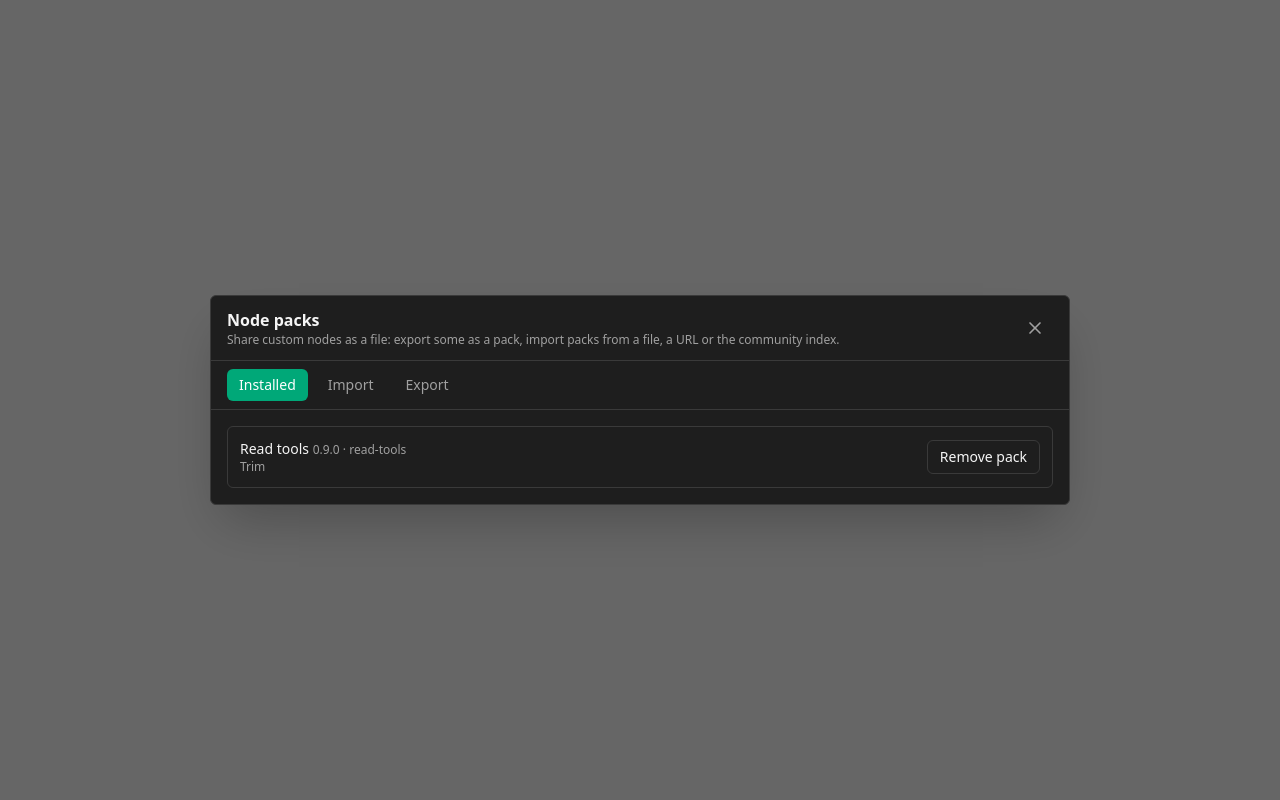
Test: NodePacksModal › installed › keeps the pack when the confirmation is cancelled
Click the button with aria-label "Remove Read tools": (983, 457) [927,440,1040,474]
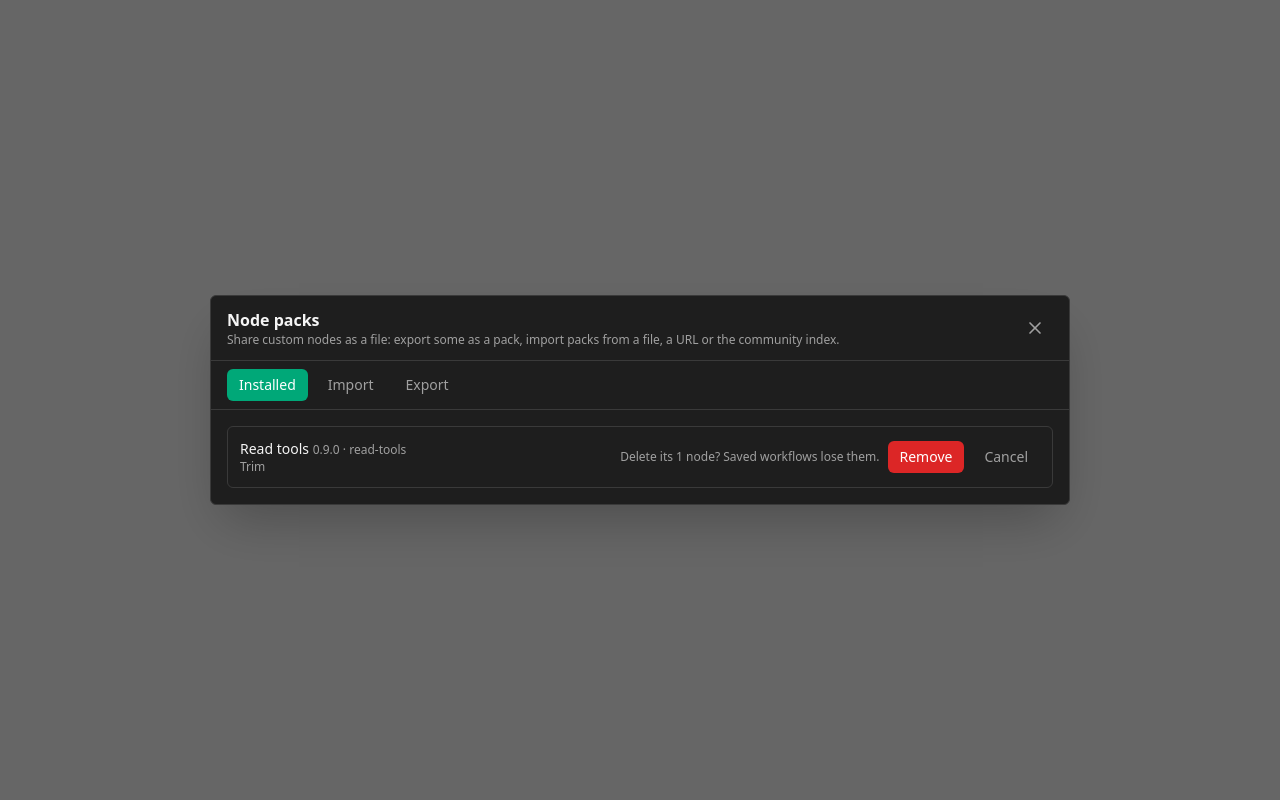
Expected: the text "Delete its 1 node? Saved workflows lose them." is shown, [620,449,880,465]
Click the button "Cancel": (1006, 457) [972,441,1040,473]
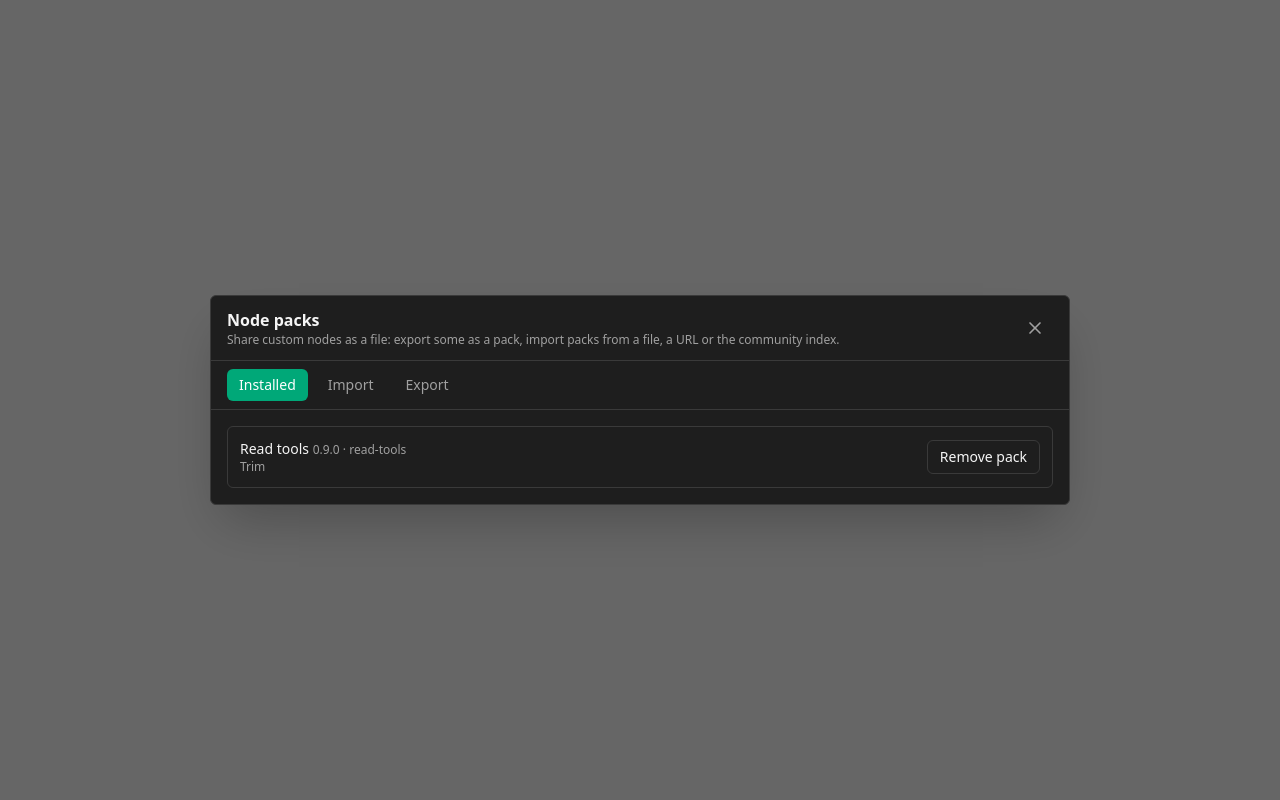
Expected: the button with aria-label "Remove Read tools" is shown, [927,440,1040,474]
